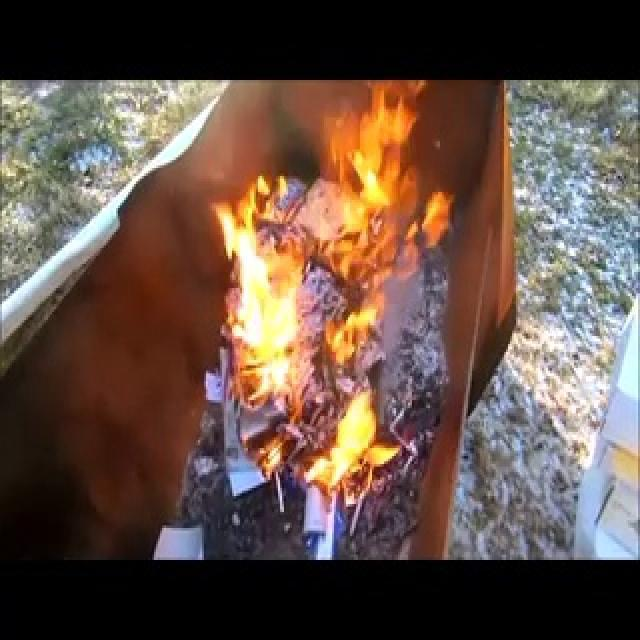Fire: (220, 93, 472, 507)
Smoke: (61, 155, 222, 532)
